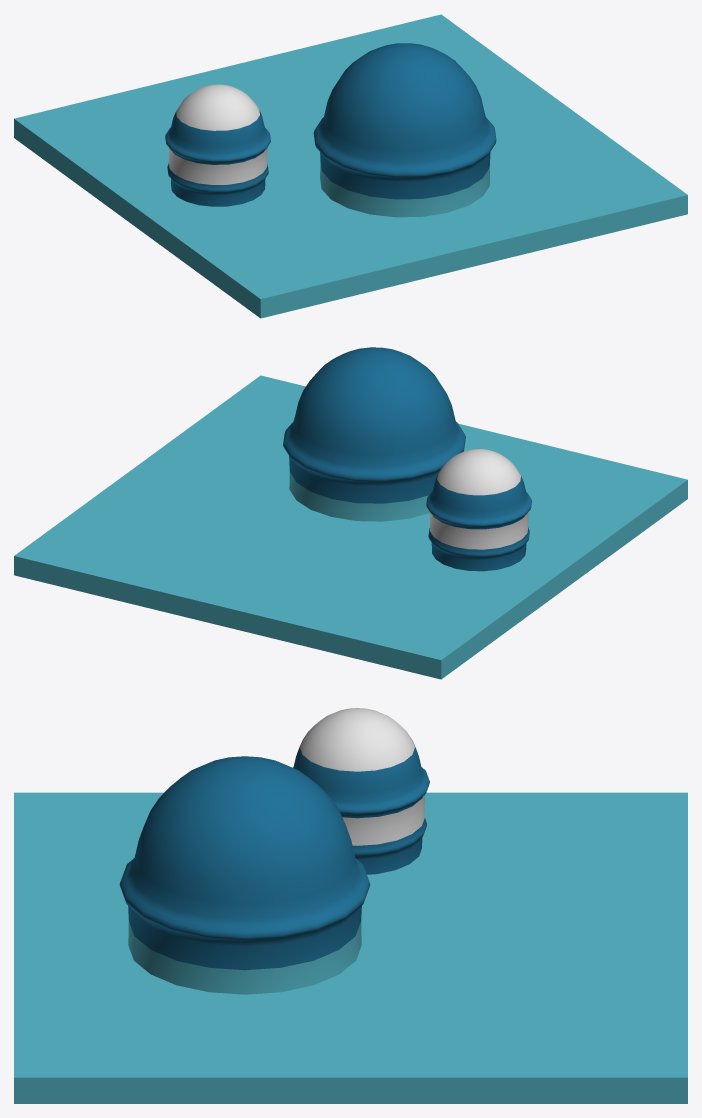
Rendered from factory_building-5.gltf.
3 renders of one model, top to bottom at view 1: azimuth 30°, elevation 25°; view 2: azimuth 150°, elevation 25°; view 3: azimuth 270°, elevation 25°, orthographic. The views are drawn at different scales.
Visible parts, largest first — view 1: pCube12, pSphere11, pSphere12; view 2: pCube12, pSphere11, pSphere12; view 3: pCube12, pSphere11, pSphere12.
Part boxes in pixels (box(x1,y1,x2,y2)): pCube12: box(14, 14, 687, 318); pSphere11: box(313, 43, 496, 217); pSphere12: box(165, 84, 270, 206); pCube12: box(14, 375, 687, 679); pSphere11: box(283, 347, 465, 521); pSphere12: box(426, 449, 531, 571); pCube12: box(14, 792, 687, 1103); pSphere11: box(119, 756, 370, 994); pSphere12: box(293, 708, 429, 874).
Bounding box in the file's own units: 1.47 × 0.6258 × 1.47.
